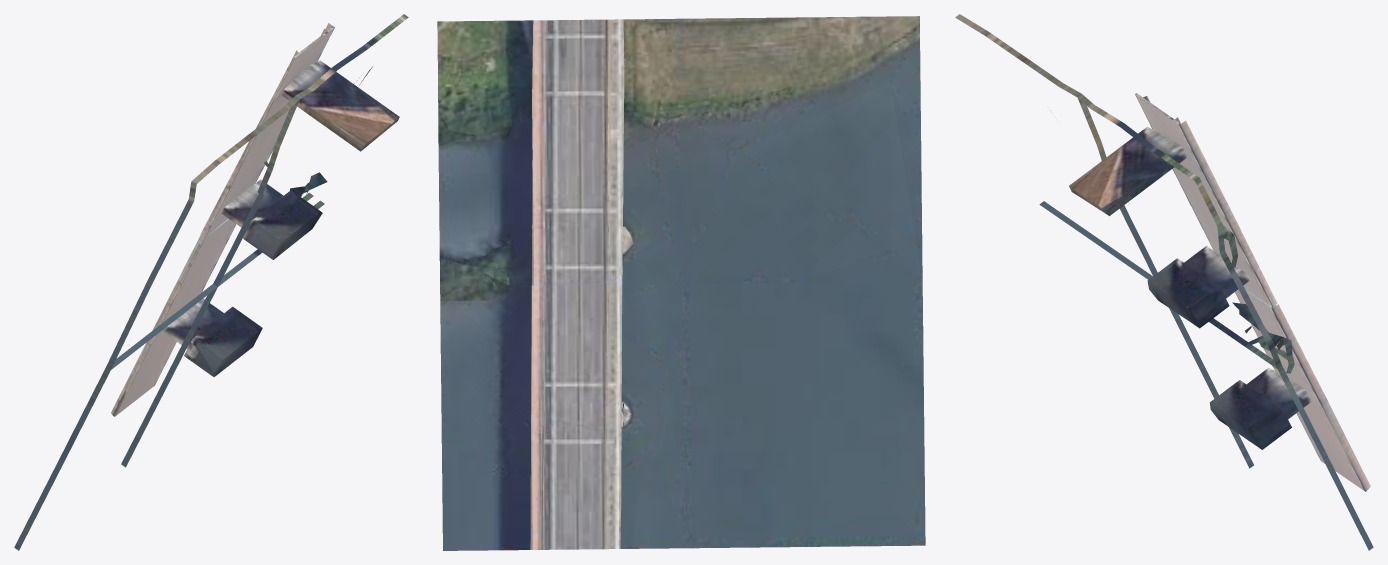
3 views of the same model, side by side, from view 1: azimuth 30°, elevation 25°; view 2: azimuth 150°, elevation 25°; view 3: azimuth 270°, elevation 25° (orthographic). The views are drawn at different scales.
Bounding box in the file's own units: 151 × 145 × 127.
2 materials, 2 textured.
